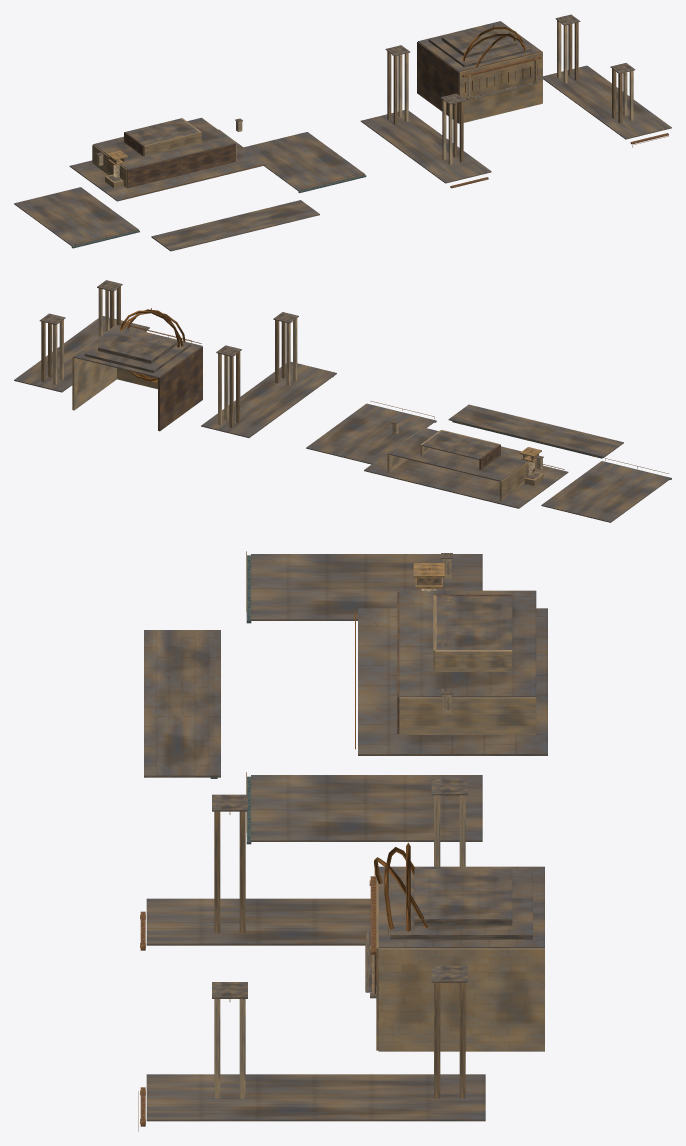
The model's file is kairou-v10.1-upper-lod1.raw.glb.
3 views of the same model, one above another, from view 1: azimuth 30°, elevation 25°; view 2: azimuth 150°, elevation 25°; view 3: azimuth 270°, elevation 25° (orthographic). The views are drawn at different scales.
Parts seen in each view (by area): view 1: SM_Kairou_V10_1_WindcrownObservatory_Upper_LOD1_Dielectric, SM_Kairou_V10_1_MeridianSanctuary_Upper_LOD1_Dielectric, SM_Kairou_V10_1_WindcrownObservatory_Upper_LOD1_Metal; view 2: SM_Kairou_V10_1_MeridianSanctuary_Upper_LOD1_Dielectric, SM_Kairou_V10_1_WindcrownObservatory_Upper_LOD1_Dielectric, SM_Kairou_V10_1_WindcrownObservatory_Upper_LOD1_Metal; view 3: SM_Kairou_V10_1_MeridianSanctuary_Upper_LOD1_Dielectric, SM_Kairou_V10_1_WindcrownObservatory_Upper_LOD1_Dielectric, SM_Kairou_V10_1_WindcrownObservatory_Upper_LOD1_Metal.
Part boxes in pixels (x1,y1,x2,y2): SM_Kairou_V10_1_WindcrownObservatory_Upper_LOD1_Dielectric: [360, 14, 671, 188]; SM_Kairou_V10_1_MeridianSanctuary_Upper_LOD1_Dielectric: [14, 117, 366, 251]; SM_Kairou_V10_1_WindcrownObservatory_Upper_LOD1_Metal: [392, 24, 668, 147]; SM_Kairou_V10_1_MeridianSanctuary_Upper_LOD1_Dielectric: [306, 403, 671, 522]; SM_Kairou_V10_1_WindcrownObservatory_Upper_LOD1_Dielectric: [14, 280, 336, 437]; SM_Kairou_V10_1_WindcrownObservatory_Upper_LOD1_Metal: [49, 290, 292, 382]; SM_Kairou_V10_1_MeridianSanctuary_Upper_LOD1_Dielectric: [144, 553, 547, 844]; SM_Kairou_V10_1_WindcrownObservatory_Upper_LOD1_Dielectric: [140, 778, 544, 1126]; SM_Kairou_V10_1_WindcrownObservatory_Upper_LOD1_Metal: [138, 795, 459, 1131].
Bounding box in the file's own units: 223 × 33.9 × 69.
2 materials, 2 textured.
